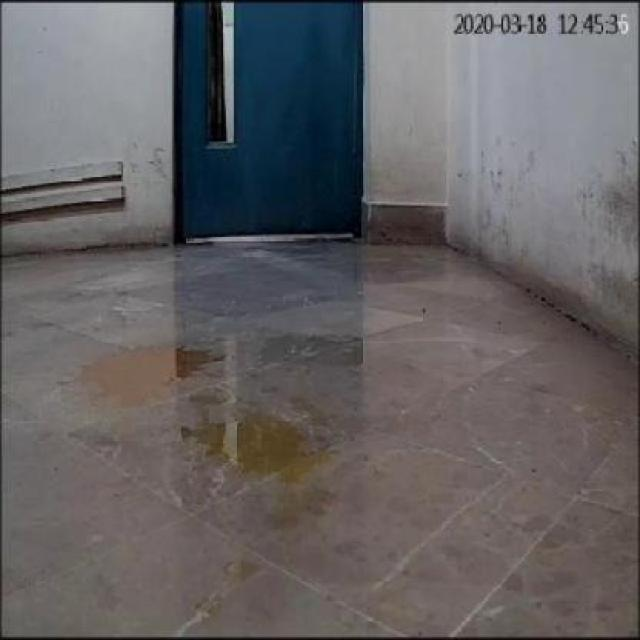spillage: (82, 350, 209, 406), (191, 414, 312, 472)
